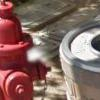Hydrant: (3, 3, 51, 100)
